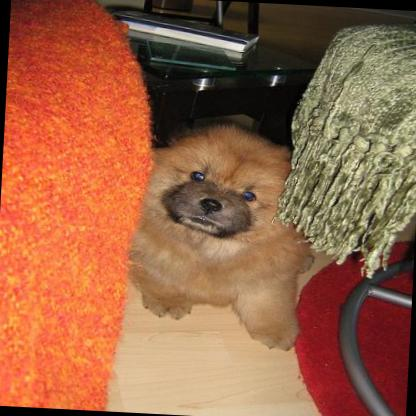chow: (120, 119, 317, 350)
